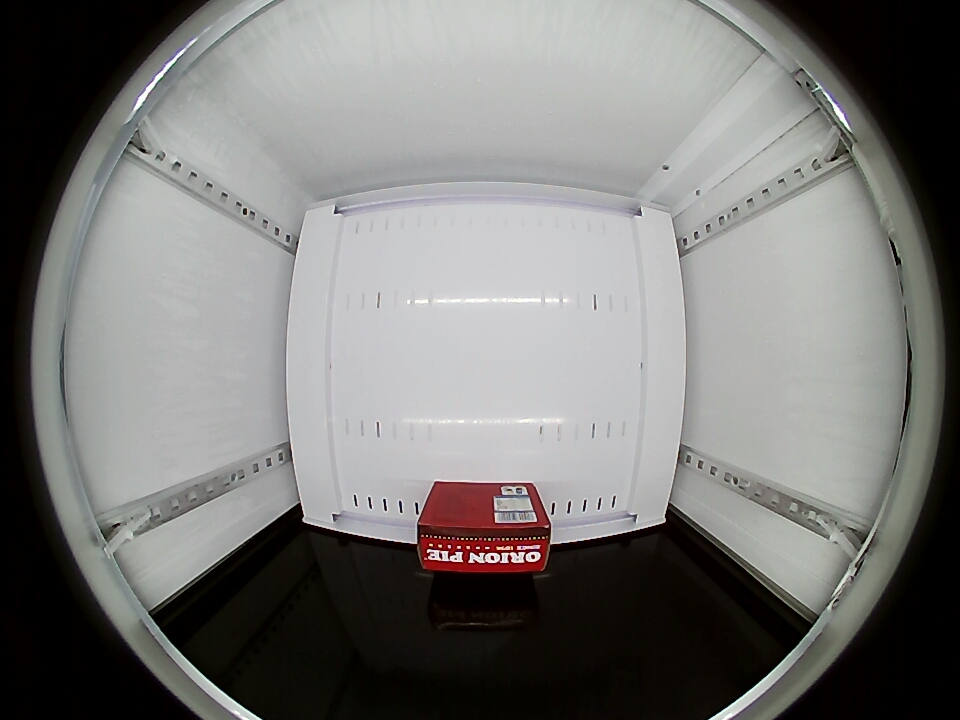haoliyou: (416, 484, 552, 574)
